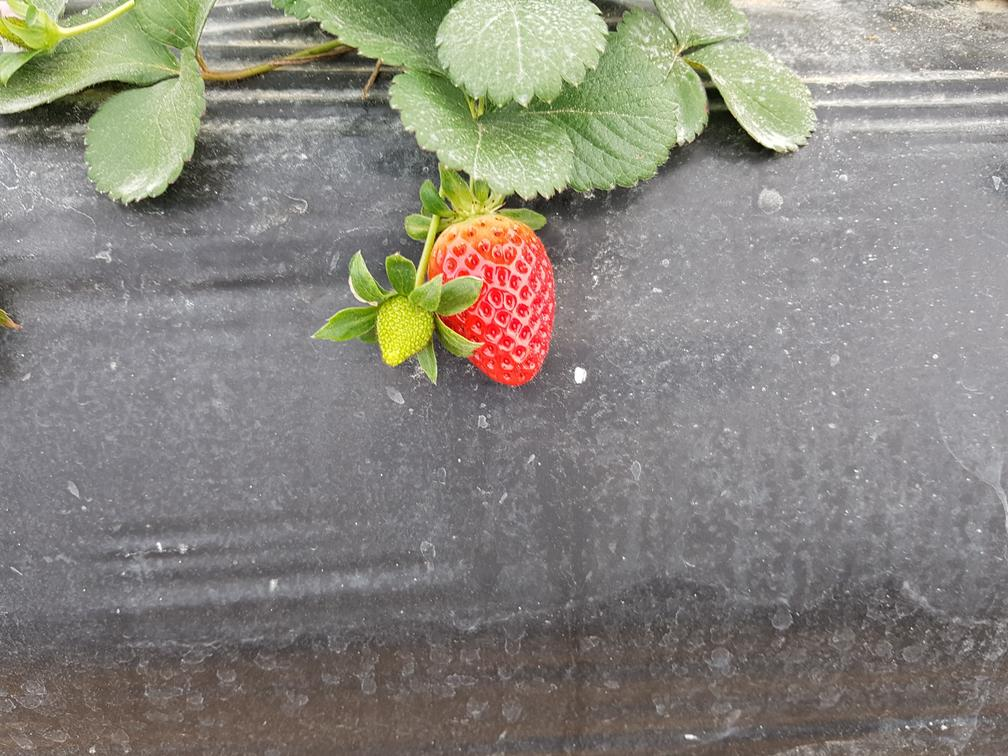Ripe: (425, 202, 555, 389)
Unripe: (371, 295, 441, 373)
